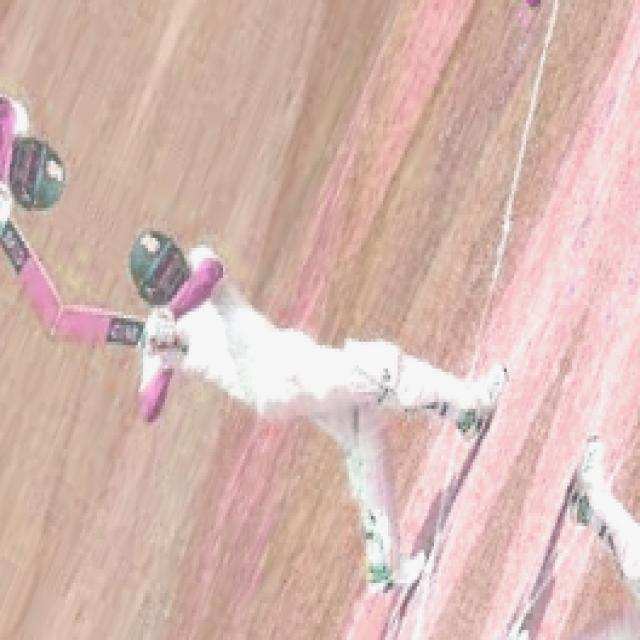toe: (50, 296, 71, 347)
